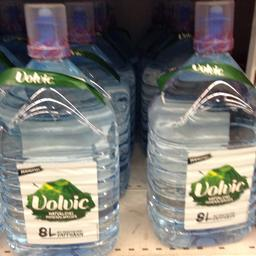water: (0, 0, 118, 255), (142, 0, 255, 248)
